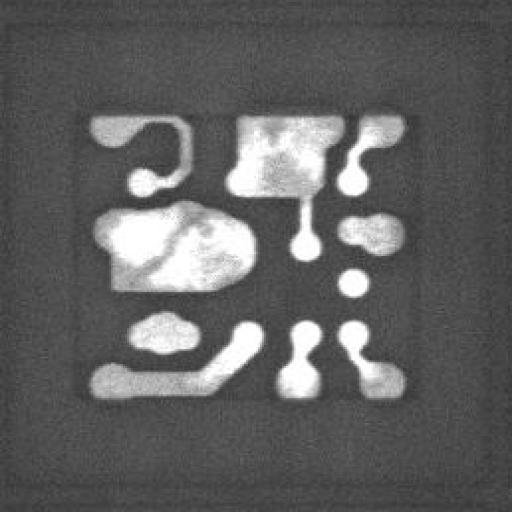NO_DIE: (71, 112, 411, 398)
